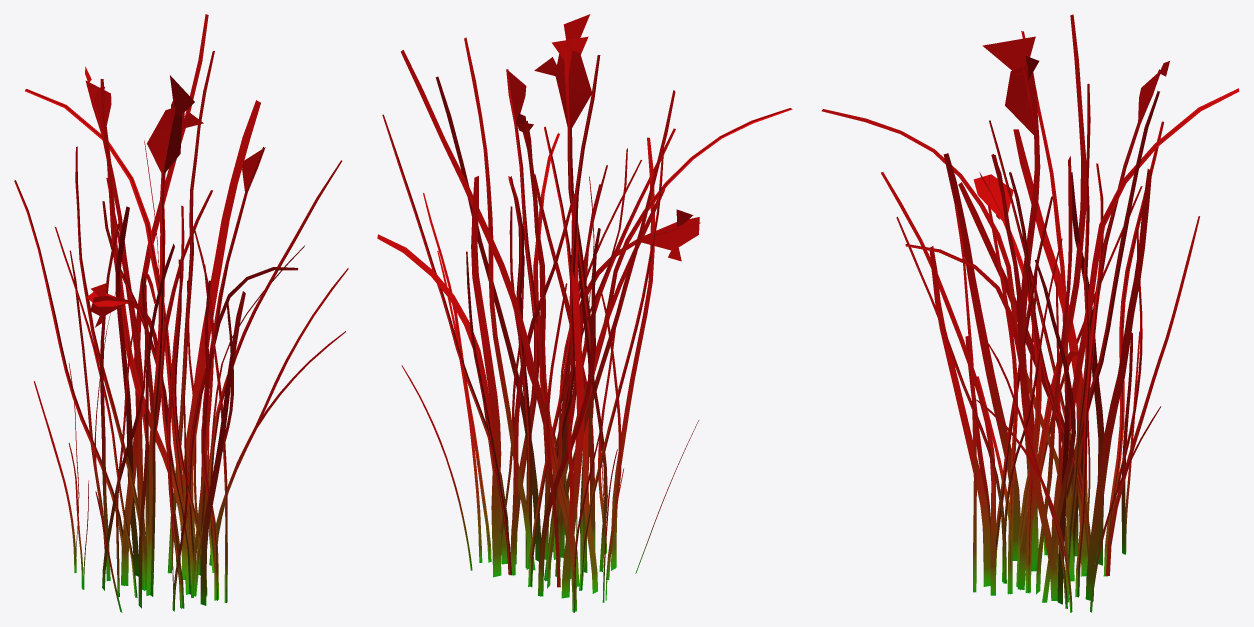
File: Var3_LOD0.fbx
3 renders of one model, left to right at view 1: azimuth 30°, elevation 25°; view 2: azimuth 150°, elevation 25°; view 3: azimuth 270°, elevation 25°, orthographic. The views are drawn at different scales.
Visible parts, largest first — view 1: _c582_Var3_LOD0; view 2: _c582_Var3_LOD0; view 3: _c582_Var3_LOD0.
Part boxes in pixels (x1=…): _c582_Var3_LOD0: x1=14, y1=14, x2=348, y2=612; _c582_Var3_LOD0: x1=377, y1=14, x2=792, y2=612; _c582_Var3_LOD0: x1=821, y1=14, x2=1239, y2=612.
Size of the model in its own units: 72.61 by 124 by 86.12.
